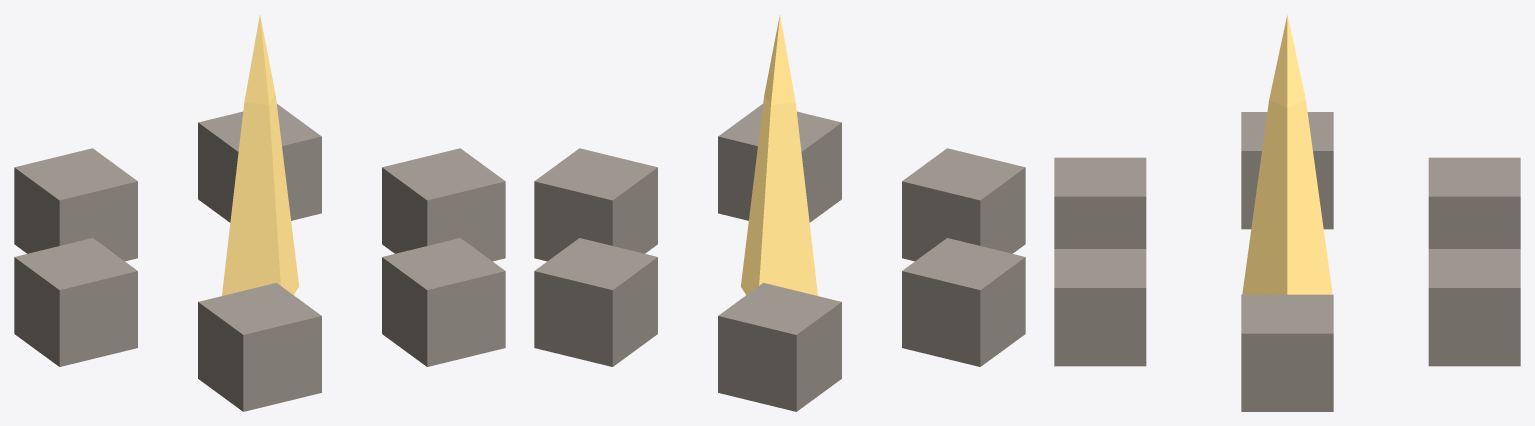
File: sacred-marker-0.glb
3 views of the same model, side by side, from view 1: azimuth 30°, elevation 25°; view 2: azimuth 150°, elevation 25°; view 3: azimuth 270°, elevation 25° (orthographic).
Visible parts, largest first — view 1: sacred-marker-0; view 2: sacred-marker-0; view 3: sacred-marker-0.
Part boxes in pixels (x1,y1,x2,y2): sacred-marker-0: (14,15,505,411); sacred-marker-0: (534,15,1025,411); sacred-marker-0: (1054,14,1520,411).
Size of the model in its own units: 0.91 by 0.55 by 0.8095.
